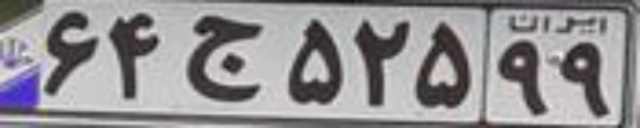2: (349, 17, 410, 106)
4: (107, 11, 163, 99)
5: (285, 19, 342, 106), (418, 19, 471, 107)
6: (40, 11, 100, 96)
9: (495, 39, 546, 117), (558, 41, 611, 116)
jim: (186, 14, 261, 101)
